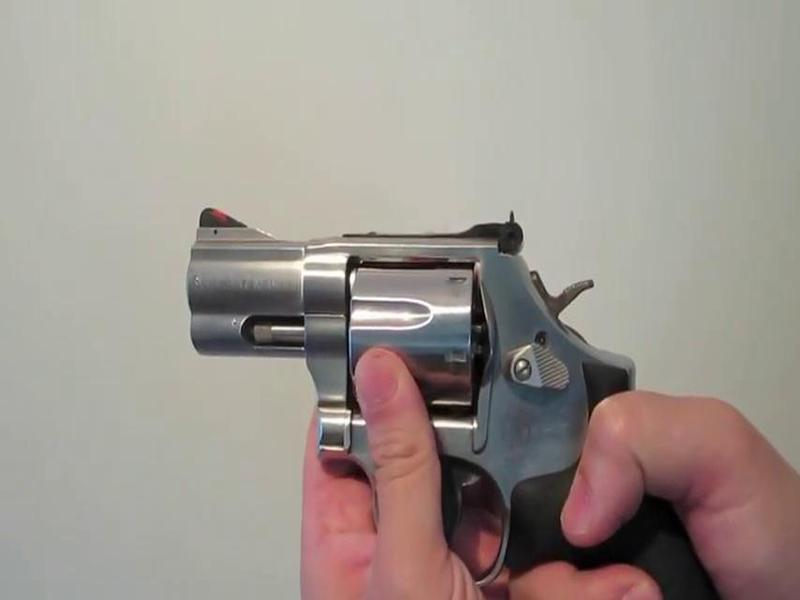Revolver: (155, 189, 699, 600)
